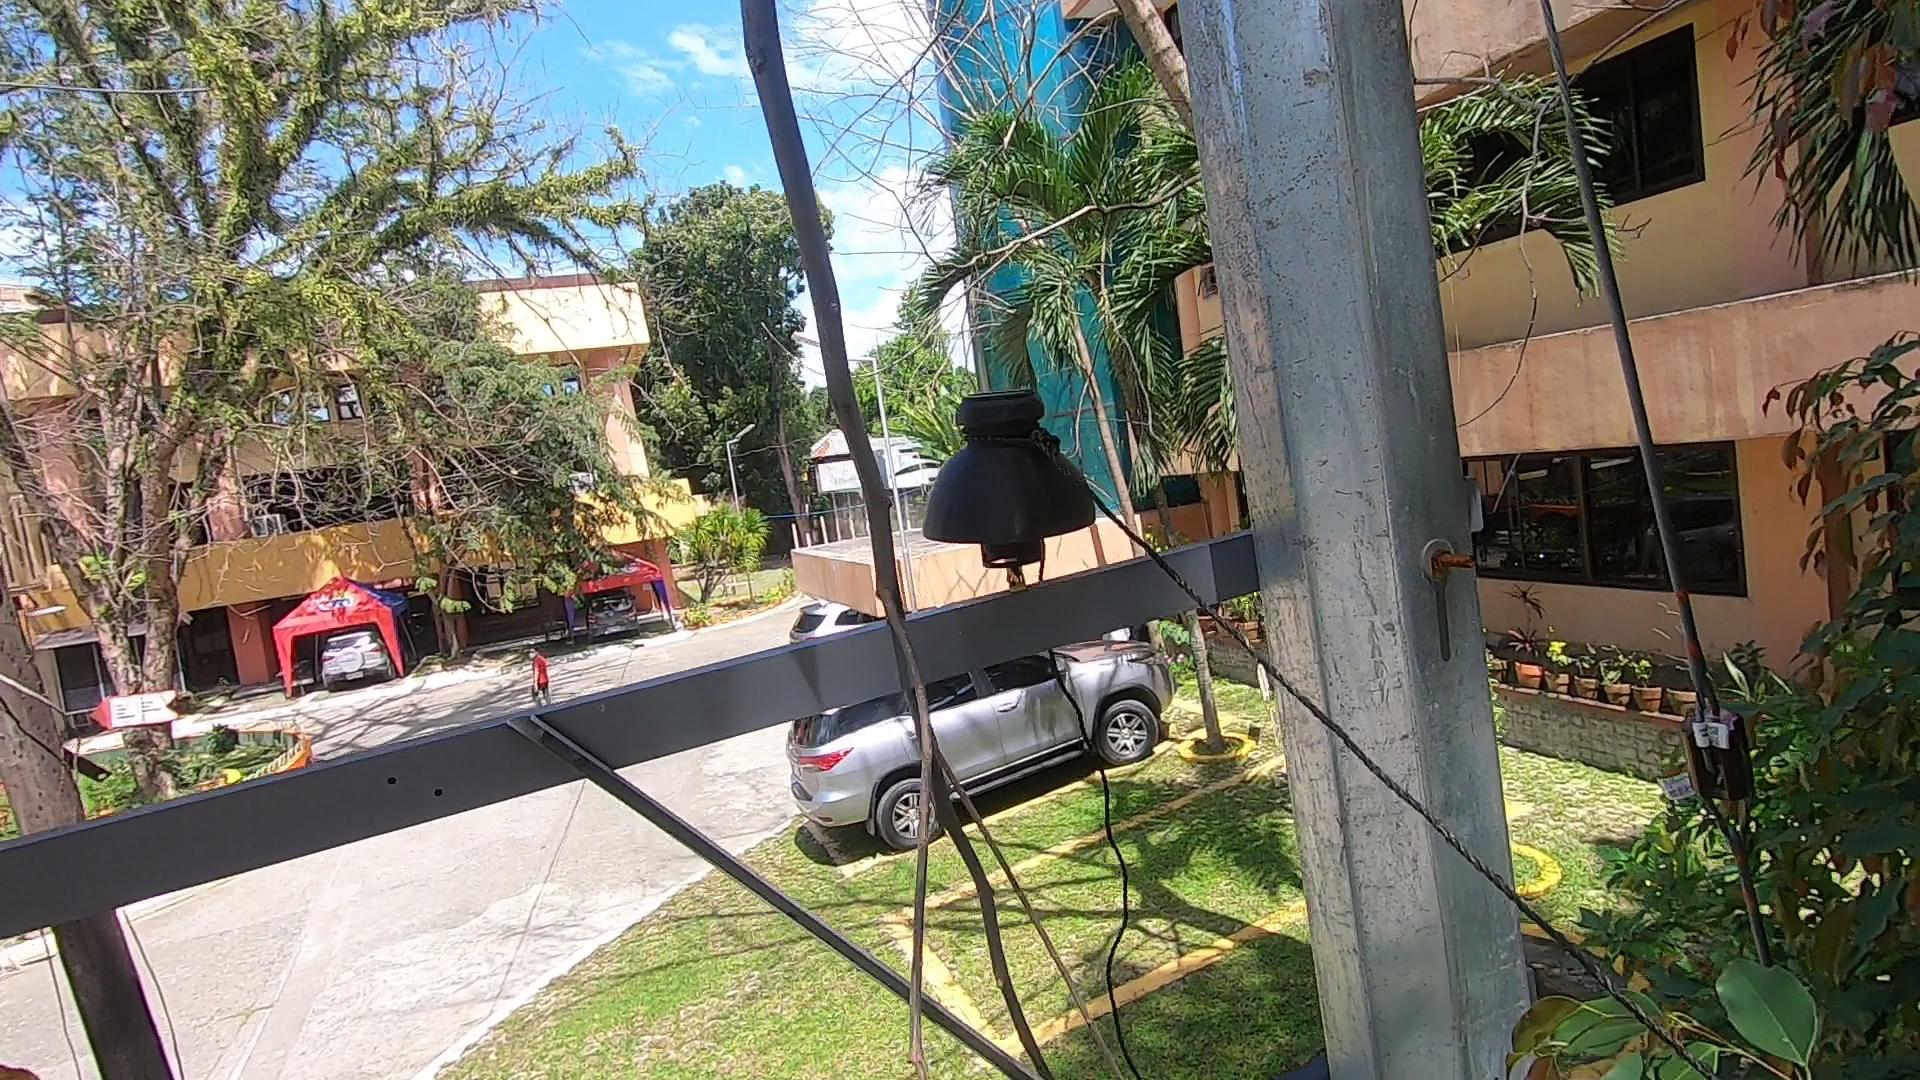tree branch: (679, 9, 1104, 1071)
